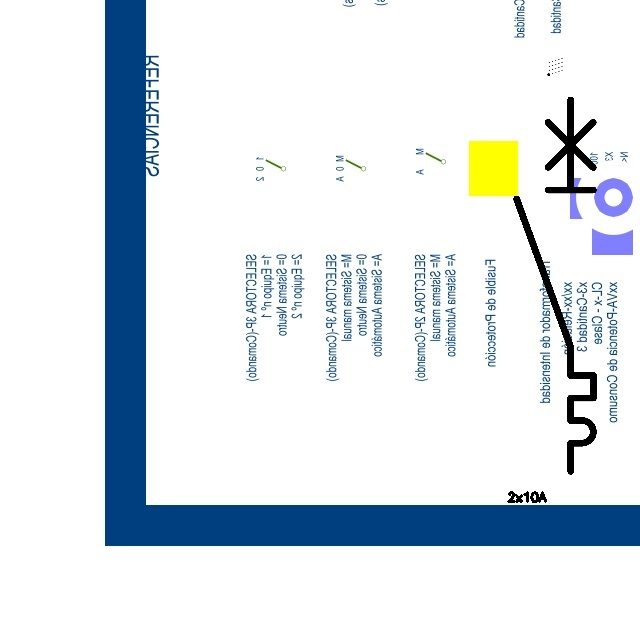interruptor_termomagnetico: (507, 90, 603, 481)
